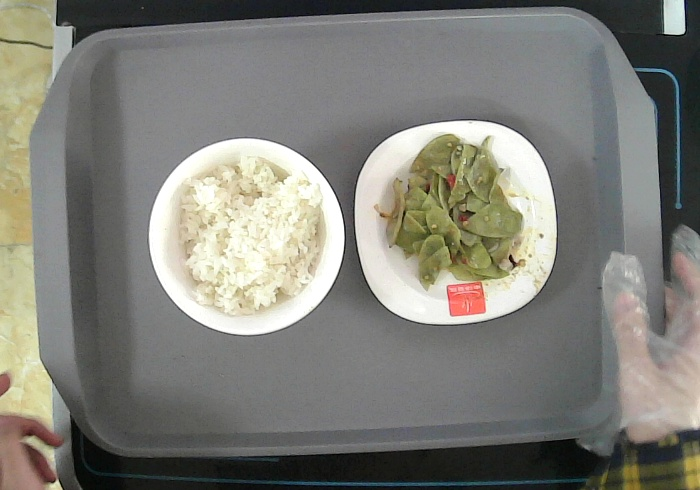SHKJ-Bai_Se_Si_Fang_Cai_Die: (353, 119, 557, 324)
SHKJ-Fan_Wan: (147, 138, 345, 335)
